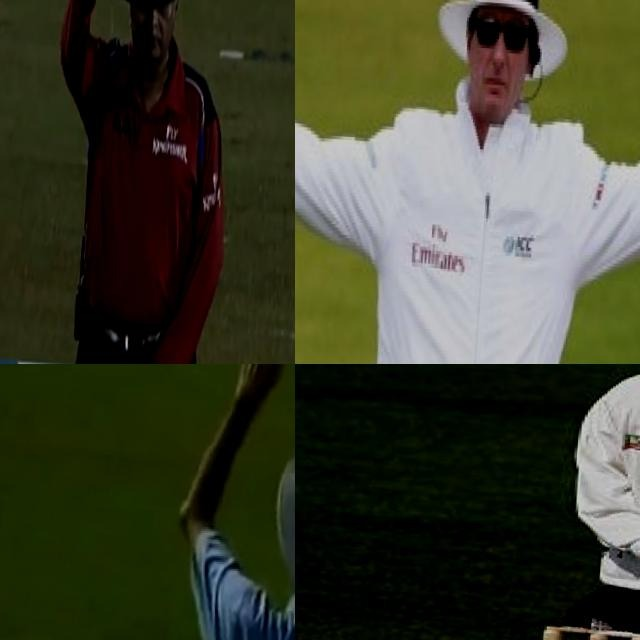No_Action: (469, 364, 640, 640)
Out: (34, 0, 259, 364)
Six: (142, 364, 295, 640)
Wide: (295, 0, 640, 364)
